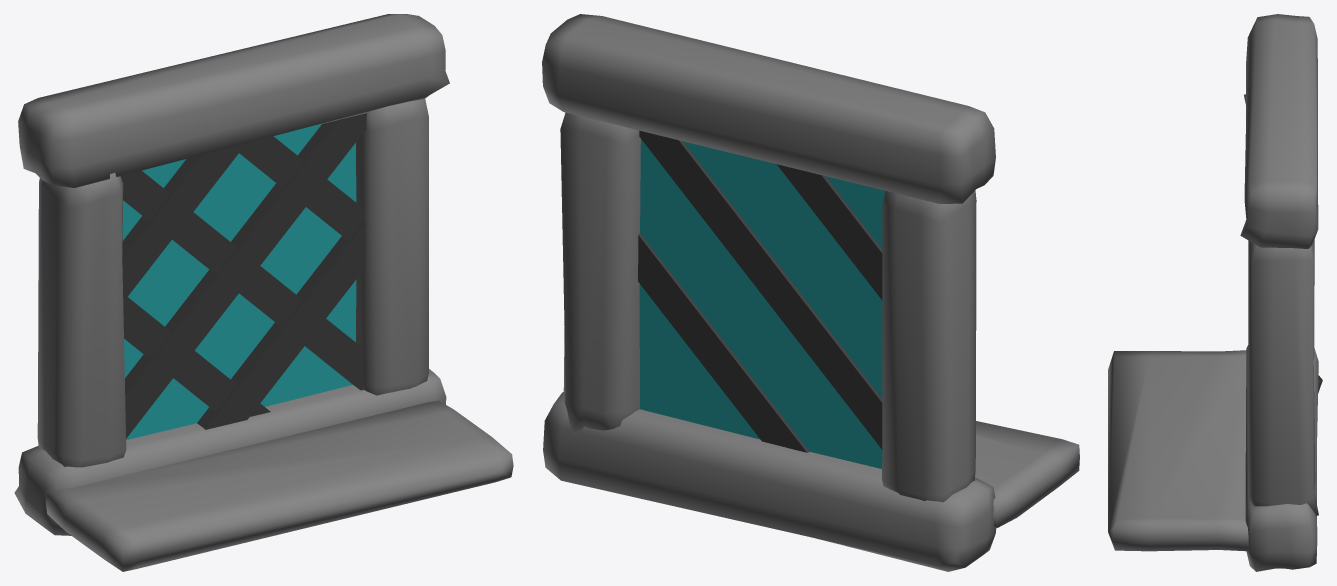
Rendered from SM_window_03.fbx.
The picture shows the model from 3 angles, left to right: view 1: azimuth 30°, elevation 25°; view 2: azimuth 150°, elevation 25°; view 3: azimuth 270°, elevation 25°; orthographic projection. The views are drawn at different scales.
Parts seen in each view (by area): view 1: Object342447; view 2: Object342447; view 3: Object342447.
Part boxes in pixels (x1,y1,x2,y2): Object342447: (14, 14, 513, 571); Object342447: (542, 14, 1079, 571); Object342447: (1108, 14, 1322, 571).
Size of the model in its own units: 36.86 by 36.96 by 18.52.
